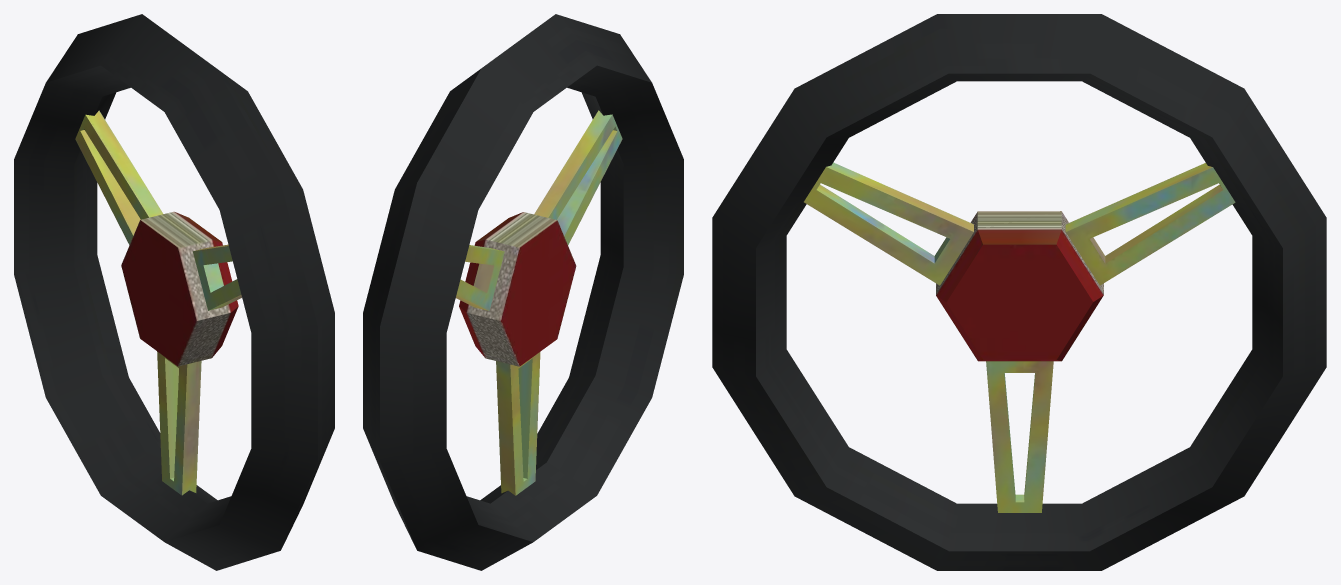
The picture shows the model from 3 angles, left to right: view 1: azimuth 30°, elevation 25°; view 2: azimuth 150°, elevation 25°; view 3: azimuth 270°, elevation 25°; orthographic projection. The views are drawn at different scales.
Visible parts, largest first — view 1: Torus, INT_WHEEL_005; view 2: Torus, INT_WHEEL_005; view 3: Torus, INT_WHEEL_005.
Part boxes in pixels (x1,y1,x2,y2): Torus: [14, 14, 334, 570]; INT_WHEEL_005: [75, 110, 241, 495]; Torus: [363, 14, 683, 570]; INT_WHEEL_005: [456, 110, 622, 495]; Torus: [712, 14, 1326, 570]; INT_WHEEL_005: [804, 162, 1235, 512].
Bounding box in the file's own units: 0.5036 × 2.9 × 2.9.
Materials: 2 (2 with a texture image).
